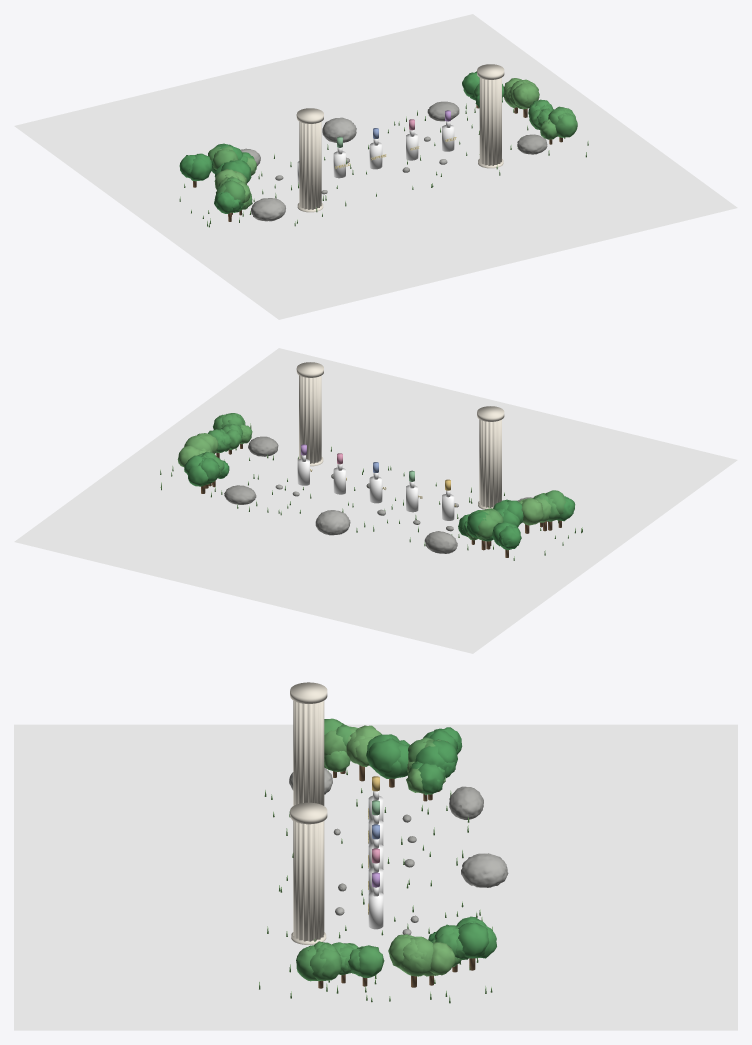
The model's file is NURAR.glb.
3 views of the same model, one above another, from view 1: azimuth 30°, elevation 25°; view 2: azimuth 150°, elevation 25°; view 3: azimuth 270°, elevation 25° (orthographic). The views are drawn at different scales.
Parts seen in each view (by area): view 1: Lantai_Reflektif, Pilar_Kiri, Pilar_Kanan, Pohon_Daun_0, Pohon_Daun_0.009, Batu.004, Batu.002, Pohon_Daun_0.013, Batu.003; view 2: Lantai_Reflektif, Pilar_Kiri, Pilar_Kanan, Pohon_Daun_0.019, Batu.004, Pohon_Daun_0, Batu, Pohon_Daun_0.001, Pohon_Daun_0.005, Pohon_Daun_0.016, Batu.001, Pohon_Daun_0.006; view 3: Lantai_Reflektif, Pilar_Kanan, Pilar_Kiri, Pohon_Daun_0.001, Pohon_Daun_0.009, Pohon_Daun_0.013, Batu.004, Pohon_Daun_0.019, Pohon_Daun_0.003, Pohon_Daun_0.015, Batu, Pohon_Daun_0.005 (+4 smaller).
Boxes of the visible parts, x1=… form: Lantai_Reflektif: x1=14, y1=14, x2=737, y2=319; Pilar_Kiri: x1=296, y1=108, x2=323, y2=212; Pilar_Kanan: x1=477, y1=64, x2=504, y2=168; Pohon_Daun_0: x1=179, y1=153, x2=212, y2=181; Pohon_Daun_0.009: x1=508, y1=79, x2=539, y2=109; Batu.004: x1=322, y1=117, x2=356, y2=142; Batu.002: x1=251, y1=198, x2=285, y2=221; Pohon_Daun_0.013: x1=548, y1=106, x2=577, y2=137; Batu.003: x1=517, y1=134, x2=547, y2=154; Lantai_Reflektif: x1=14, y1=348, x2=737, y2=653; Pilar_Kiri: x1=477, y1=406, x2=504, y2=509; Pilar_Kanan: x1=296, y1=362, x2=323, y2=466; Pohon_Daun_0.019: x1=184, y1=455, x2=219, y2=486; Batu.004: x1=315, y1=510, x2=350, y2=535; Pohon_Daun_0: x1=492, y1=522, x2=521, y2=550; Batu: x1=424, y1=531, x2=457, y2=553; Pohon_Daun_0.001: x1=493, y1=499, x2=523, y2=527; Pohon_Daun_0.005: x1=518, y1=498, x2=543, y2=525; Pohon_Daun_0.016: x1=475, y1=508, x2=503, y2=540; Batu.001: x1=224, y1=485, x2=256, y2=504; Pohon_Daun_0.006: x1=533, y1=490, x2=565, y2=521; Lantai_Reflektif: x1=14, y1=724, x2=737, y2=1030; Pilar_Kanan: x1=290, y1=802, x2=327, y2=944; Pilar_Kiri: x1=290, y1=682, x2=327, y2=805; Pohon_Daun_0.001: x1=366, y1=734, x2=409, y2=778; Pohon_Daun_0.009: x1=388, y1=934, x2=433, y2=976; Pohon_Daun_0.013: x1=296, y1=941, x2=341, y2=981; Batu.004: x1=461, y1=853, x2=508, y2=887; Pohon_Daun_0.019: x1=456, y1=916, x2=496, y2=958; Pohon_Daun_0.003: x1=415, y1=740, x2=457, y2=777; Pohon_Daun_0.015: x1=348, y1=945, x2=384, y2=977; Batu: x1=449, y1=786, x2=483, y2=819; Pohon_Daun_0.005: x1=346, y1=725, x2=381, y2=766.
Bounding box in the file's own units: 28 × 5.7 × 28.
